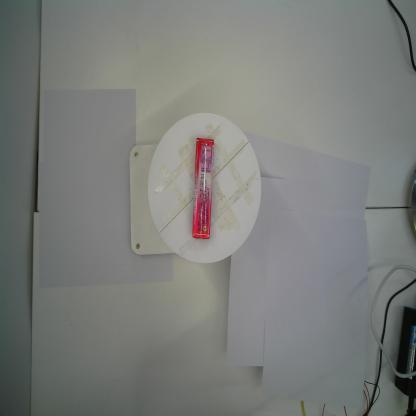Candy: (191, 137, 215, 239)
